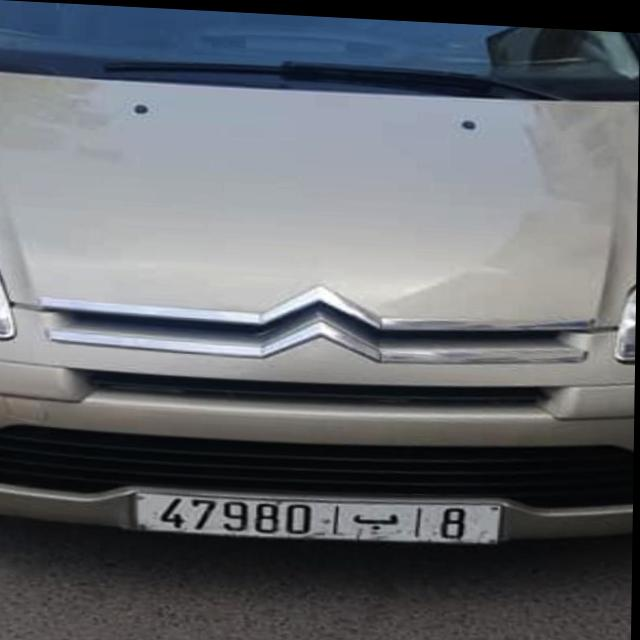License-Plate: (137, 491, 503, 539)
